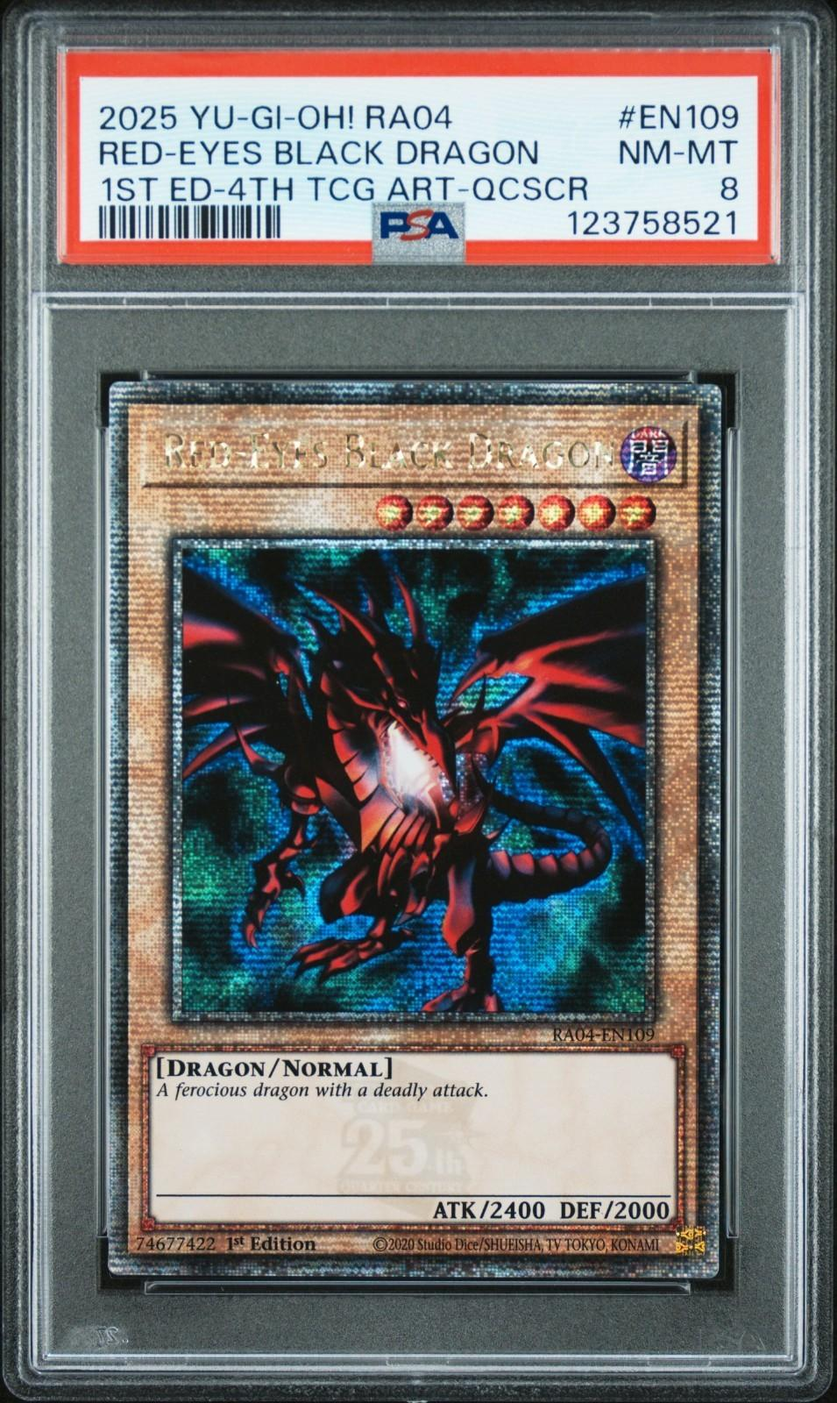card-2UtV: (107, 381, 722, 1279)
